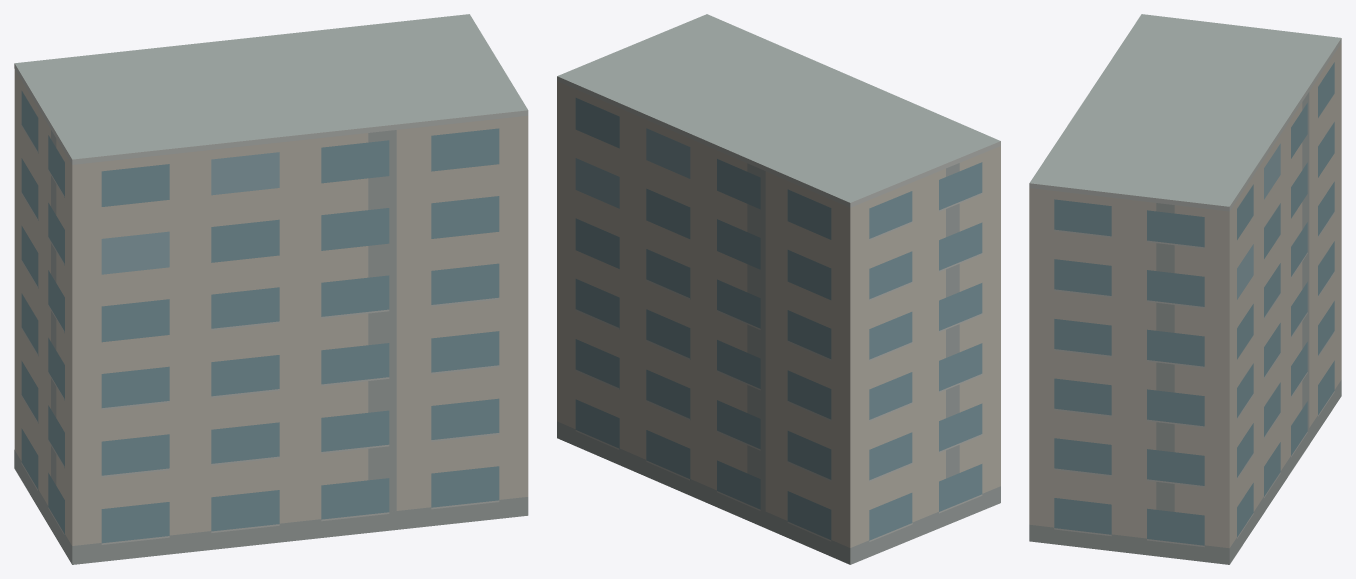
The model's file is survey-upis-32983188.glb.
The picture shows the model from 3 angles, left to right: view 1: azimuth 30°, elevation 25°; view 2: azimuth 150°, elevation 25°; view 3: azimuth 270°, elevation 25°; orthographic projection. The views are drawn at different scales.
Visible parts, largest first — view 1: survey-upis-32983188.tmp; view 2: survey-upis-32983188.tmp; view 3: survey-upis-32983188.tmp.
Boxes of the visible parts, left/top/right/bottom form: survey-upis-32983188.tmp: left=14, top=14, right=528, bottom=564; survey-upis-32983188.tmp: left=557, top=14, right=1000, bottom=564; survey-upis-32983188.tmp: left=1029, top=14, right=1341, bottom=564.
Bounding box in the file's own units: 21.14 × 18.3 × 14.47.
